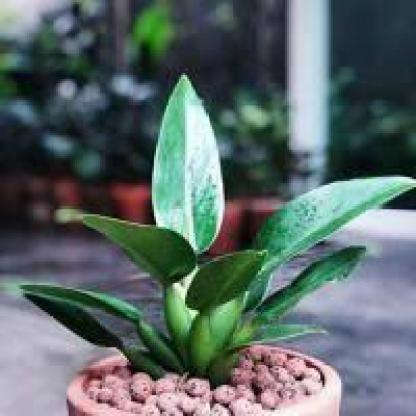Melati: (171, 149, 269, 219), (90, 181, 143, 242), (301, 214, 356, 260)
